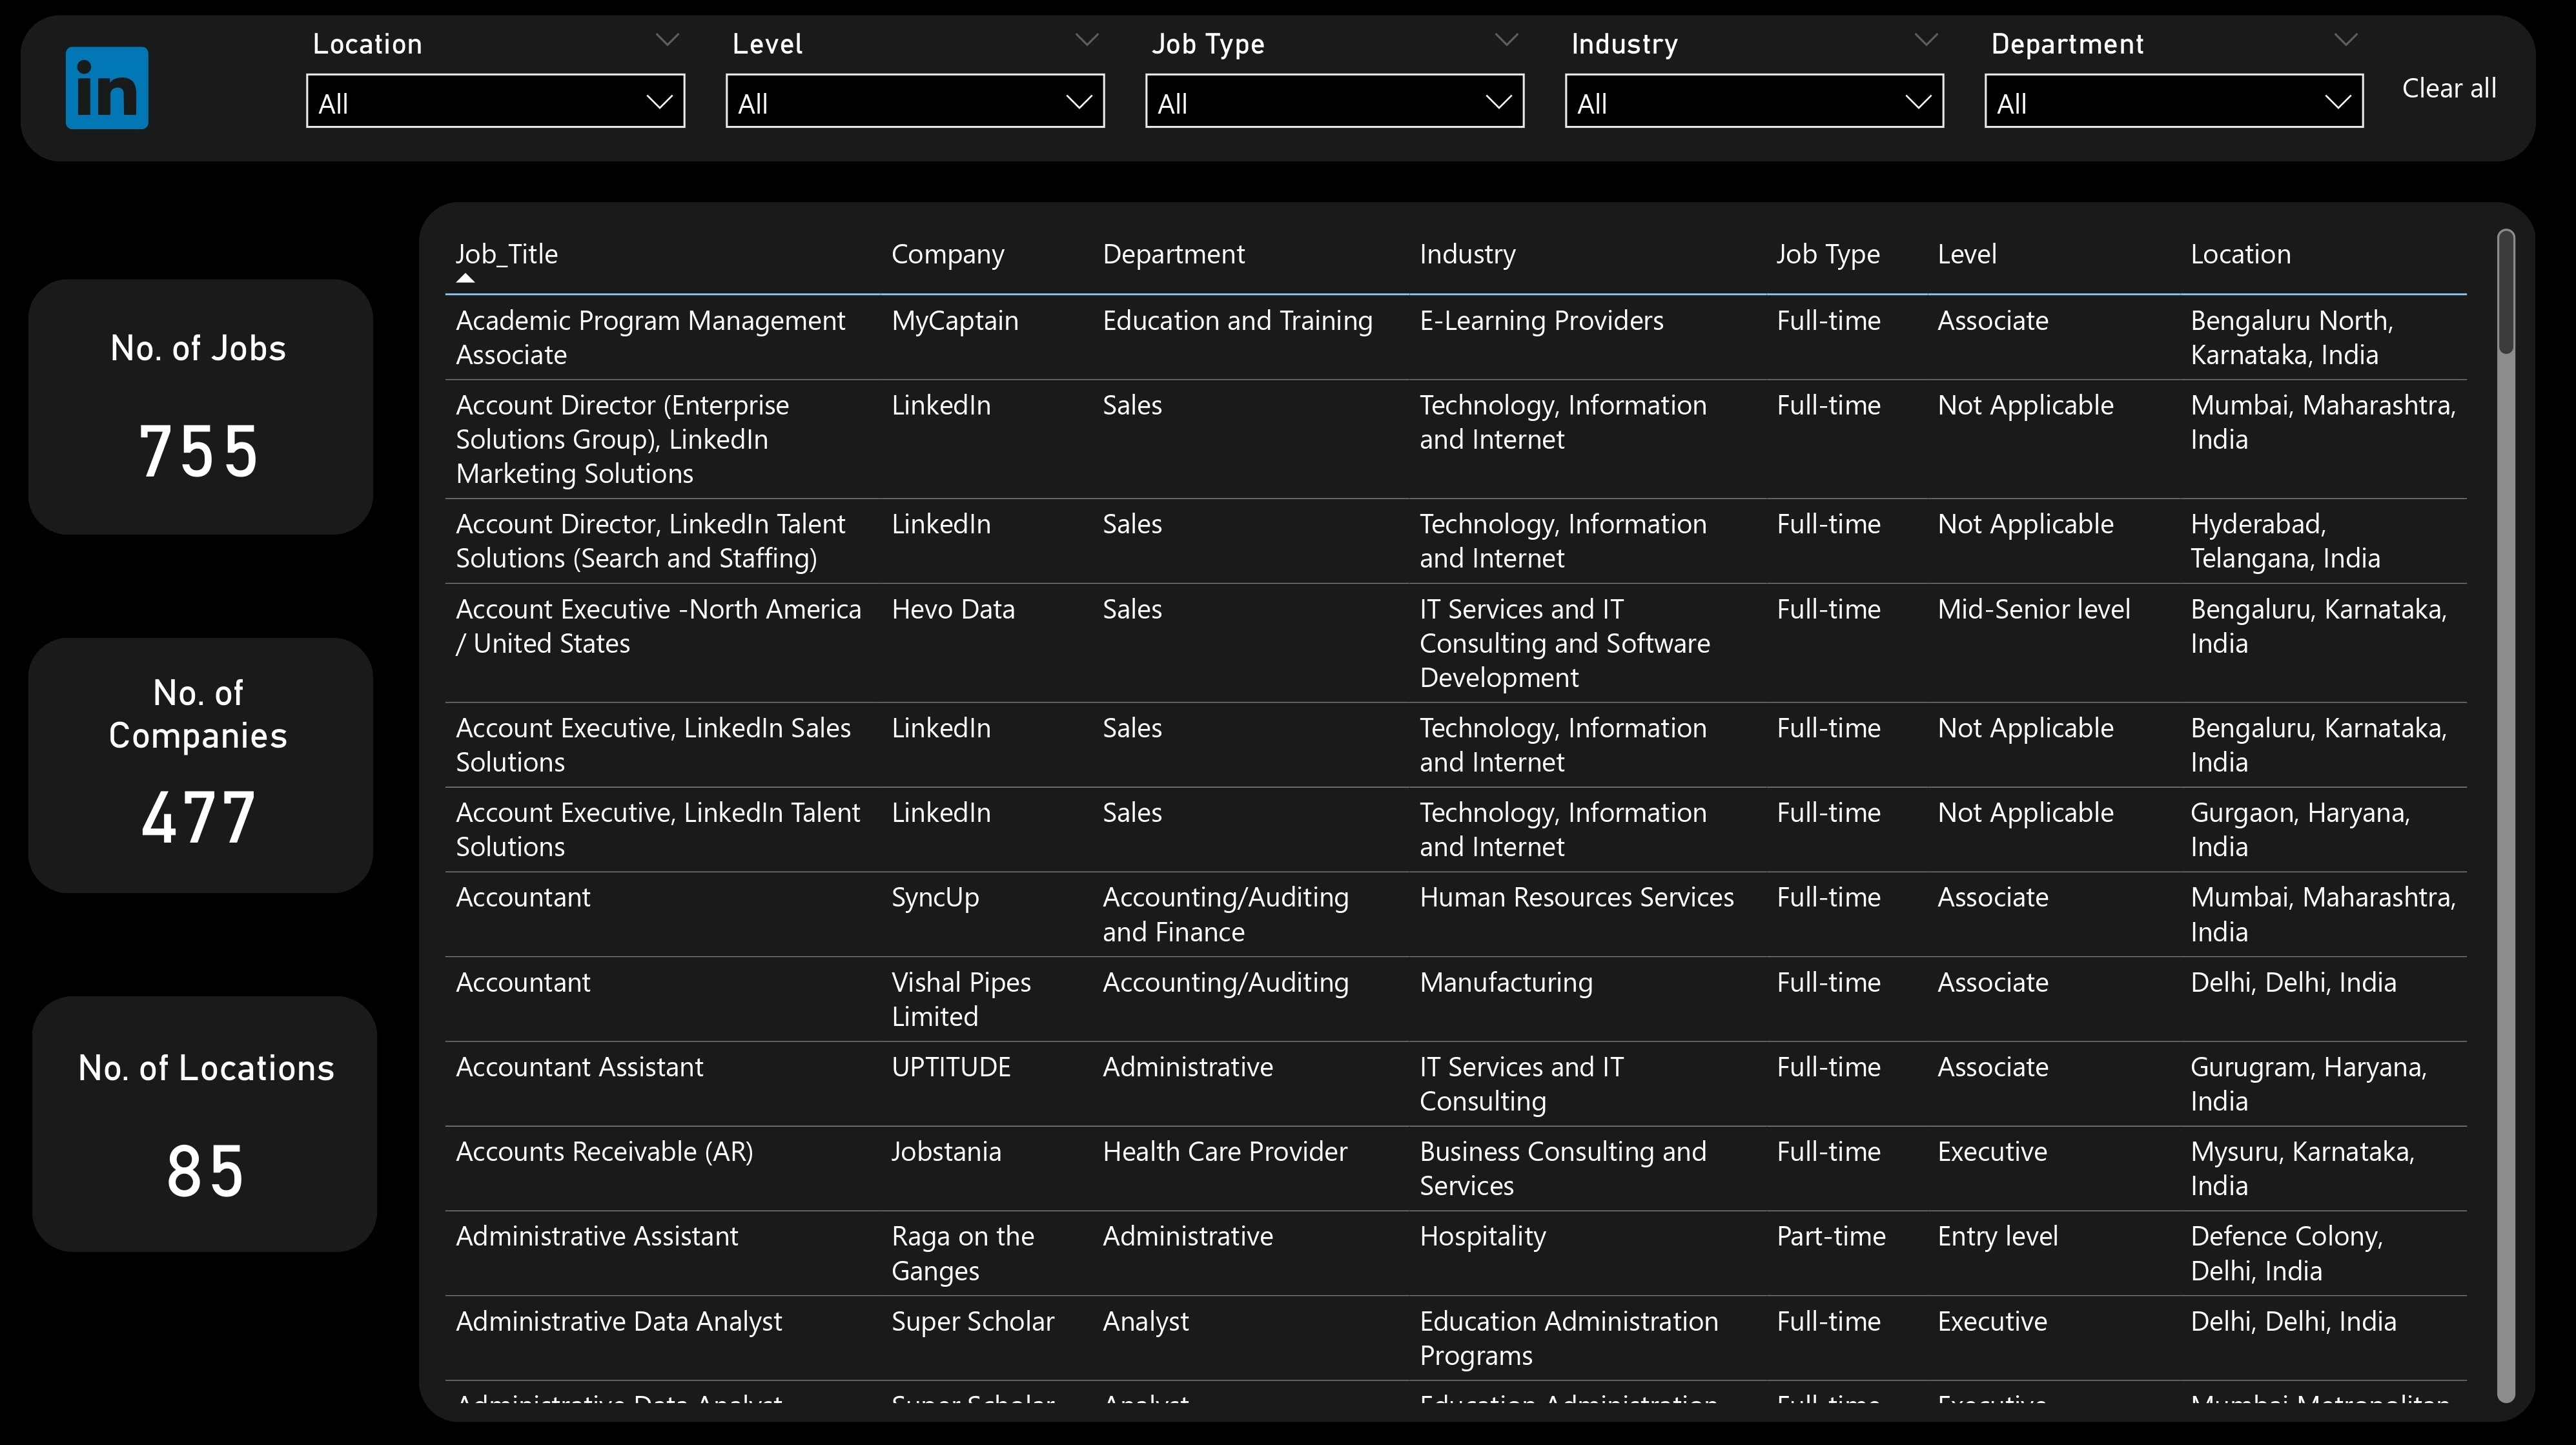

The dashboard page shown, as its layout file describes it:
{"tool":"powerbi","page":{"name":"Data","canvas":[1280,720],"ordinal":1},"visuals":[{"type":"group","id":"g1","title":"Group 1","box":[144,9.6,1040,64],"z":0},{"type":"slicer","title":"Loaction","fields":{"Values":["linkedin_Scraped_data.Location"]},"box":[144,9.6,208,64],"z":0,"group":"g1"},{"type":"tableEx","fields":{"Values":["linkedin_Scraped_data.Job_Title","linkedin_Scraped_data.Company","linkedin_Scraped_data.Department","linkedin_Scraped_data.Industry","linkedin_Scraped_data.Job Type","linkedin_Scraped_data.Level","linkedin_Scraped_data.Location"]},"box":[216.6,109.5,1037.5,592],"z":1000},{"type":"slicer","fields":{"Values":["linkedin_Scraped_data.Level"]},"box":[352,9.6,208,64],"z":2000,"group":"g1"},{"type":"card","title":"No. of Jobs","fields":{"Values":["CountNonNull(linkedin_Scraped_data.Job_Title)"]},"box":[27.8,162.8,144.7,96],"z":2000},{"type":"card","title":"No. of Locations","fields":{"Values":["Count(linkedin_Scraped_data.Location)"]},"box":[32,520.3,144.7,96],"z":3000},{"type":"slicer","fields":{"Values":["linkedin_Scraped_data.Industry"]},"box":[768,9.6,208,64],"z":4000,"group":"g1"},{"type":"card","title":"No. of Companies","fields":{"Values":["Count(linkedin_Scraped_data.Company)"]},"box":[27.8,333.9,144.7,96],"z":4000},{"type":"actionButton","box":[1184,6.2,65.2,76.3],"z":5000},{"type":"slicer","fields":{"Values":["linkedin_Scraped_data.Job Type"]},"box":[560,9.6,208,64],"z":6000,"group":"g1"},{"type":"slicer","fields":{"Values":["linkedin_Scraped_data.Department"]},"box":[976,9.6,208,64],"z":8000,"group":"g1"}]}

Visuals, with their boxes in screenshot pixels (x1, y1, x2, y2), scaled from the page's 1280x720 canvas onto the 2576x1445 screenshot:
"Group 1" group: bbox=(290, 19, 2383, 148)
"Loaction" slicer: bbox=(290, 19, 708, 148)
tableEx - linkedin_Scraped_data.Job_Title x linkedin_Scraped_data.Company: bbox=(436, 220, 2524, 1408)
slicer - linkedin_Scraped_data.Level: bbox=(708, 19, 1127, 148)
"No. of Jobs" card: bbox=(56, 327, 347, 519)
"No. of Locations" card: bbox=(65, 1044, 356, 1237)
slicer - linkedin_Scraped_data.Industry: bbox=(1546, 19, 1964, 148)
"No. of Companies" card: bbox=(56, 670, 347, 863)
actionButton: bbox=(2383, 12, 2514, 165)
slicer - linkedin_Scraped_data.Job Type: bbox=(1127, 19, 1546, 148)
slicer - linkedin_Scraped_data.Department: bbox=(1964, 19, 2383, 148)
